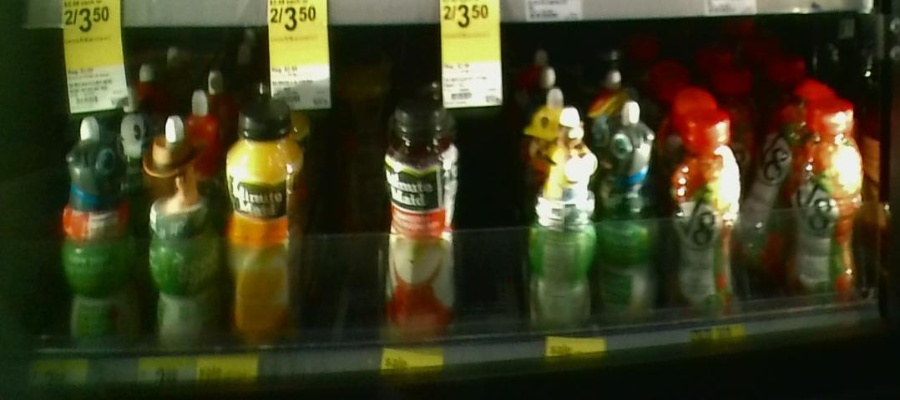bottle: (225, 101, 309, 353), (139, 113, 221, 354), (58, 117, 139, 354), (384, 98, 460, 338), (665, 107, 742, 319), (531, 109, 600, 335), (792, 98, 862, 298), (603, 99, 660, 329), (745, 111, 791, 281)
